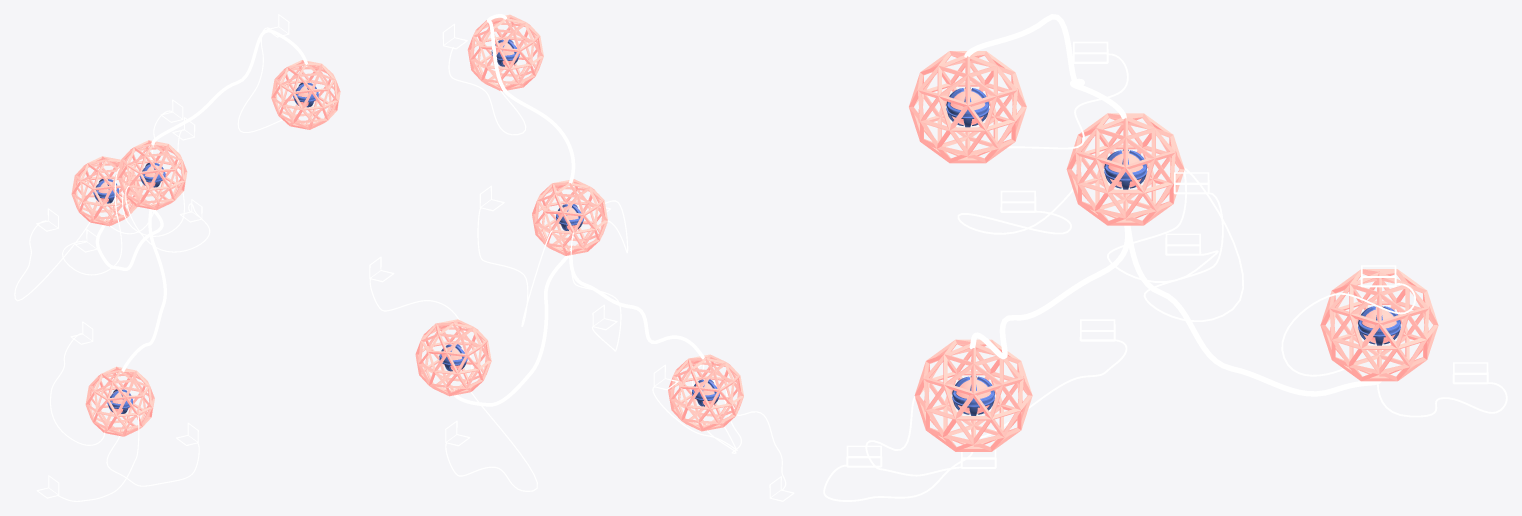
File: cloud4.glb
3 views of the same model, side by side, from view 1: azimuth 30°, elevation 25°; view 2: azimuth 150°, elevation 25°; view 3: azimuth 270°, elevation 25° (orthographic). The views are drawn at different scales.
Visible parts, largest first — view 1: redShell.001, redShell.003, redShell, redShell.002, redCable.011, redCable.009, redCable.010; view 2: redShell.002, redShell.003, redShell, redShell.001, redCable.010, redCable.011, redCable.009; view 3: redShell.001, redShell, redShell.003, redShell.002, redCable.010, redCable.009, redCable.011, redCore, redCable.001, redCore.001, redCore.003, redCore.002 (+1 smaller).
Part boxes in pixels (x1=…): redShell.001: x1=271, y1=60, x2=340, y2=129; redShell.003: x1=85, y1=366, x2=154, y2=436; redShell: x1=118, y1=140, x2=187, y2=210; redShell.002: x1=71, y1=156, x2=140, y2=226; redCable.011: x1=151, y1=29, x2=308, y2=145; redCable.009: x1=121, y1=204, x2=166, y2=371; redCable.010: x1=95, y1=203, x2=163, y2=270; redShell.002: x1=415, y1=319, x2=491, y2=396; redShell.003: x1=668, y1=354, x2=743, y2=431; redShell: x1=532, y1=179, x2=607, y2=255; redShell.001: x1=467, y1=14, x2=543, y2=91; redCable.010: x1=454, y1=250, x2=570, y2=406; redCable.011: x1=487, y1=14, x2=575, y2=183; redCable.009: x1=569, y1=255, x2=704, y2=359; redShell.001: x1=909, y1=51, x2=1026, y2=163; redShell: x1=1066, y1=113, x2=1184, y2=225; redShell.003: x1=914, y1=339, x2=1032, y2=451; redShell.002: x1=1320, y1=269, x2=1438, y2=381; redCable.010: x1=1125, y1=225, x2=1381, y2=396; redCable.009: x1=969, y1=225, x2=1128, y2=359; redCable.011: x1=964, y1=14, x2=1126, y2=118; redCore: x1=1104, y1=149, x2=1147, y2=189; redCable.001: x1=1143, y1=167, x2=1243, y2=321; redCore.001: x1=946, y1=87, x2=989, y2=127; redCore.003: x1=952, y1=376, x2=994, y2=415; redCore.002: x1=1358, y1=306, x2=1400, y2=345.
Size of the model in its own units: 29.88 by 38.32 by 36.67.
